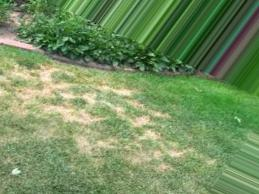patch: (40, 71, 64, 99), (60, 109, 94, 123), (133, 114, 150, 130)
